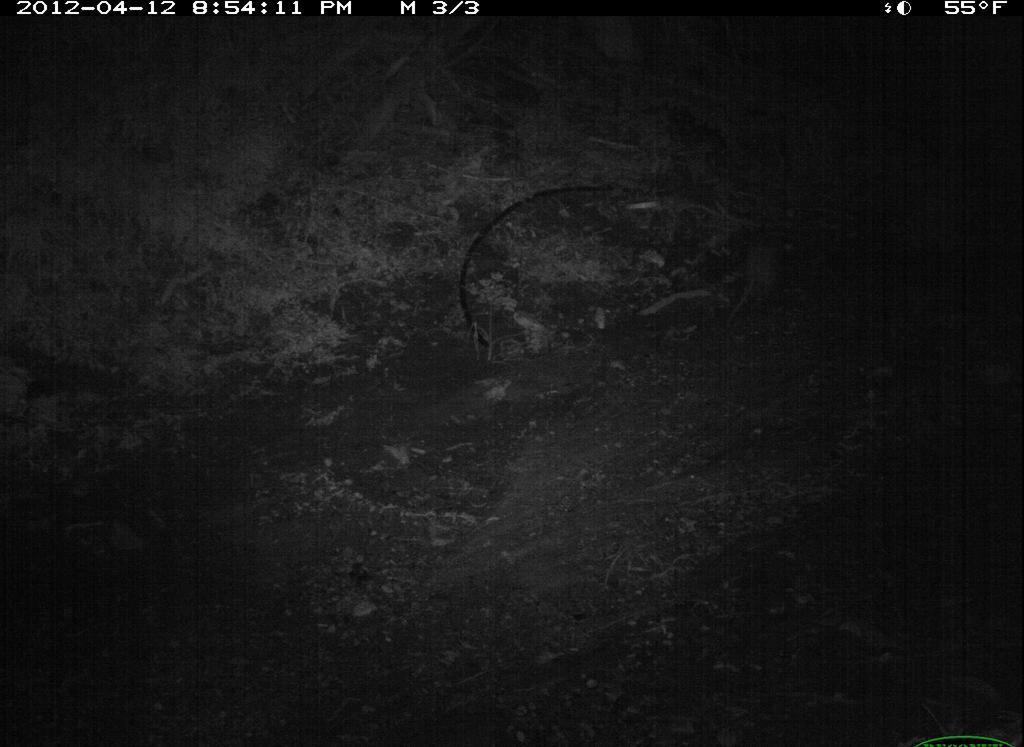opossum: (712, 225, 804, 338)
